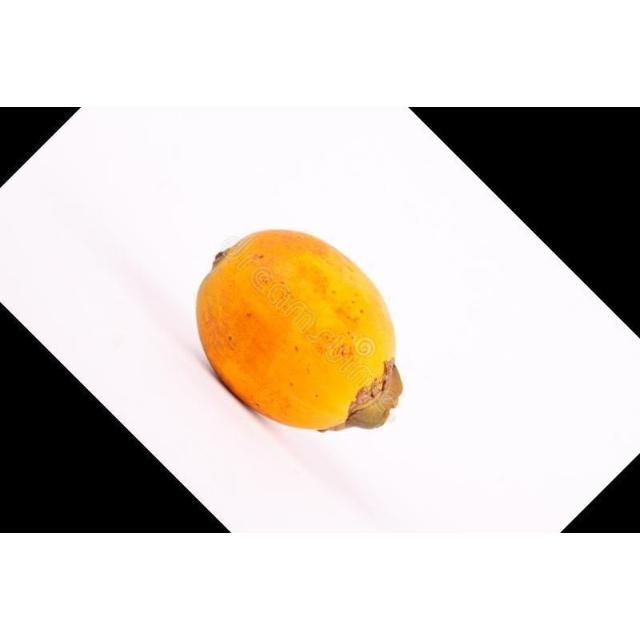good: (195, 230, 403, 433)
